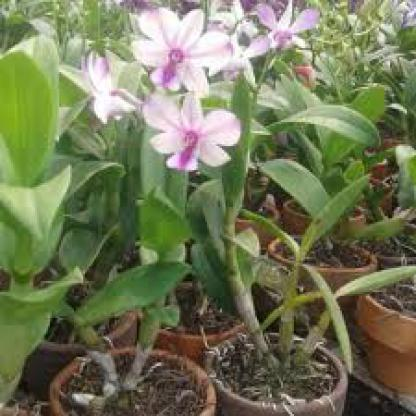ANGGREK: (46, 7, 340, 195)
